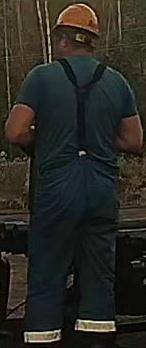helmet: (51, 2, 100, 37)
